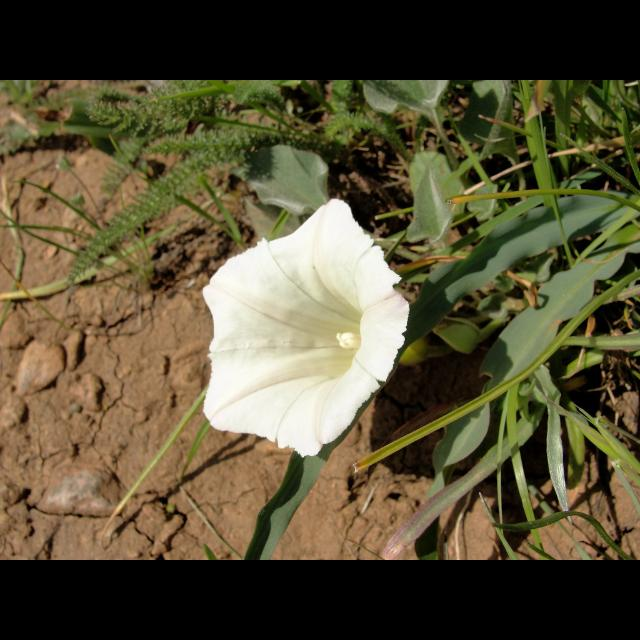Flower: (201, 199, 413, 473)
